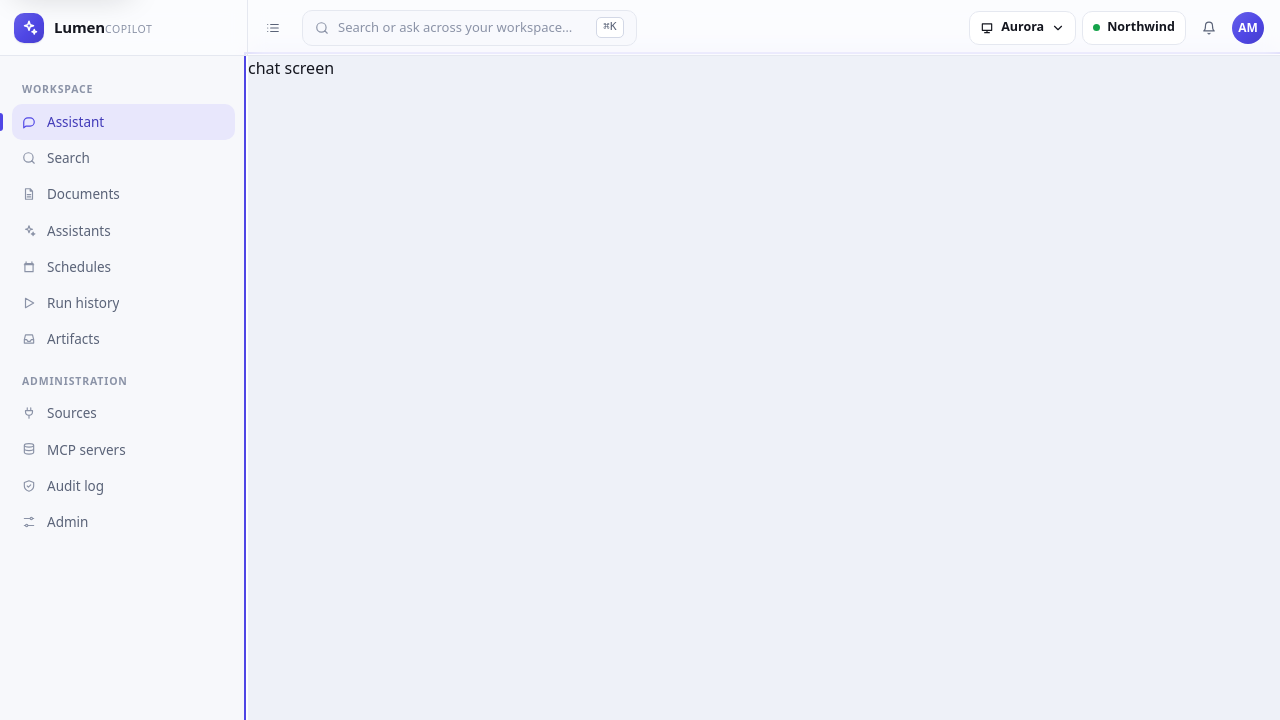
it: AppShell › opens the account menu showing the signed-in principal
Click the button with aria-label "account menu" at (1248, 28), box [1232,12,1264,44]
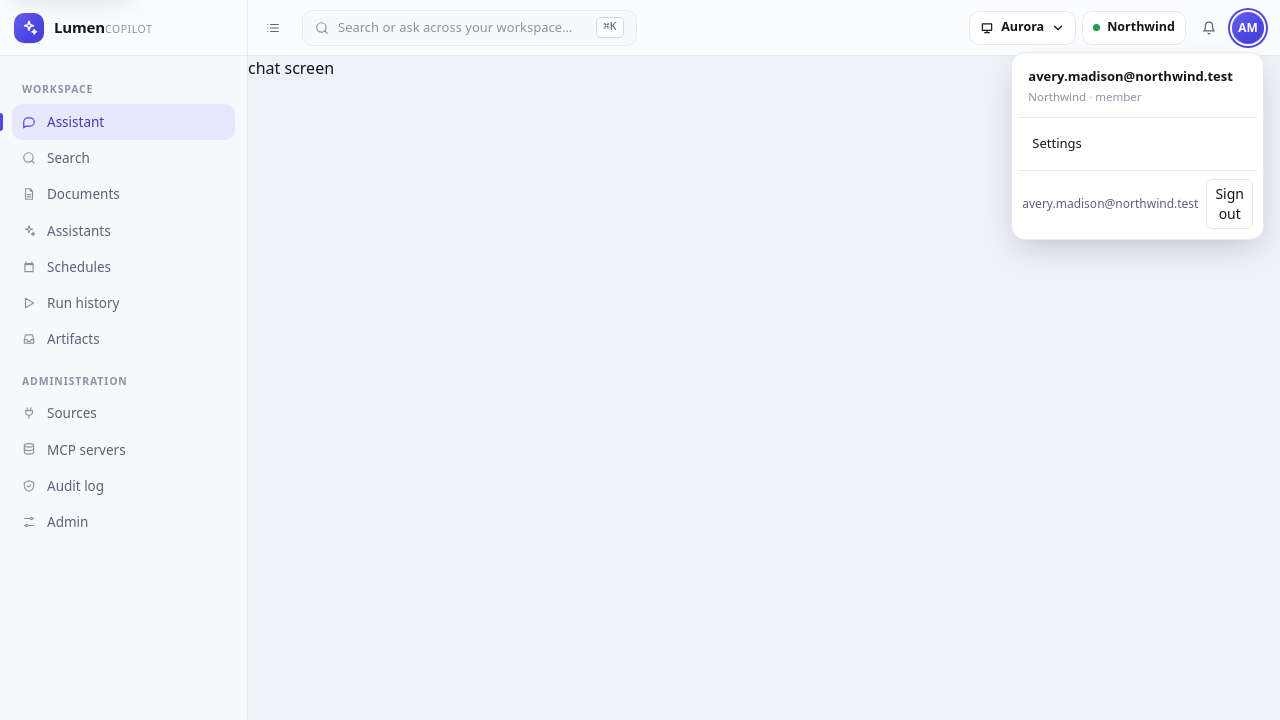
Expected: the button "Sign out" is shown, [1206,179,1253,229]
Expected: the 1st text "avery.madison@northwind.test" is shown, [1028,66,1247,86]
